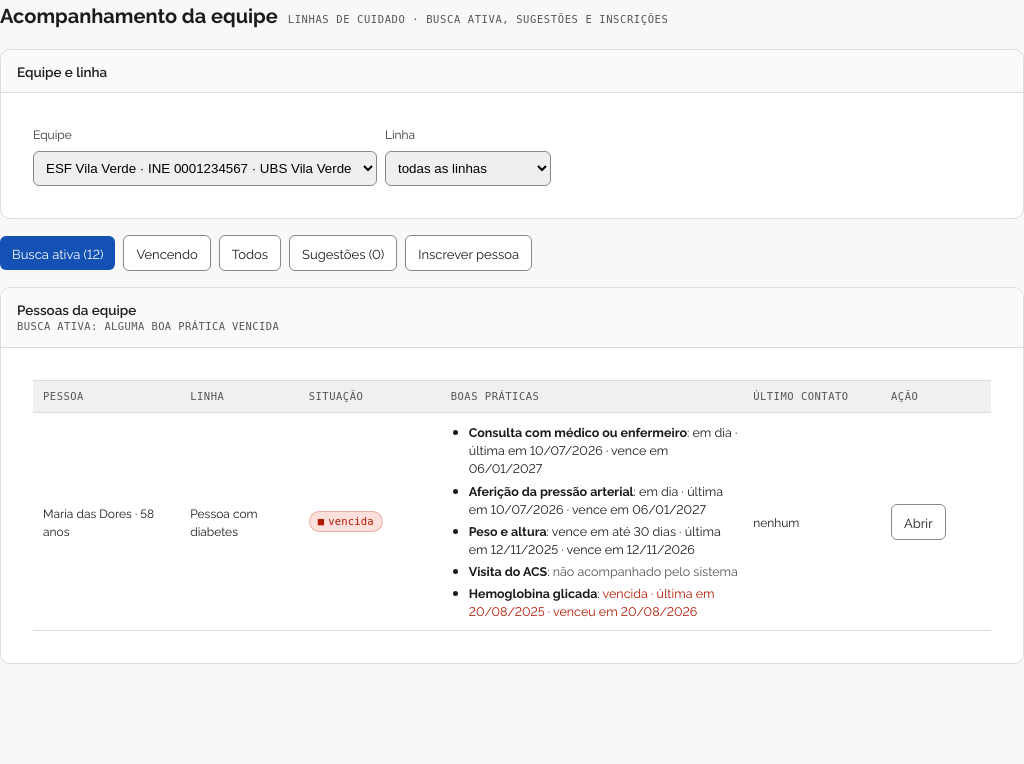
EnrollmentDetail › Abrir mostra o detalhe com trilha uma vez; contatos do mais novo ao mais antigo
Click the button with aria-label "Abrir Maria das Dores": (918, 522) [891, 504, 946, 540]
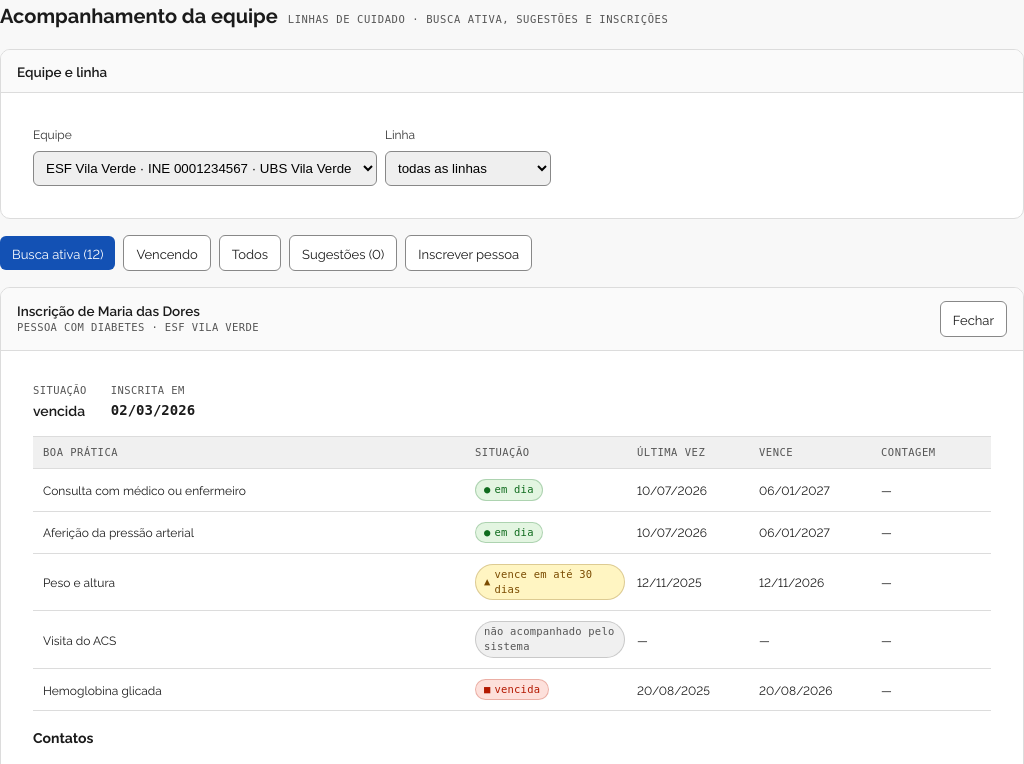
Result: the text "Hemoglobina glicada" is shown at [43, 680, 162, 698]
